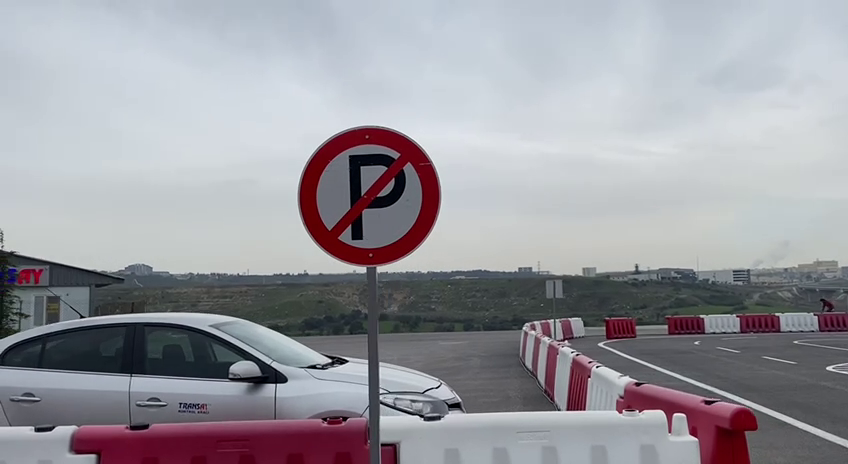noparking: (294, 123, 447, 272)
